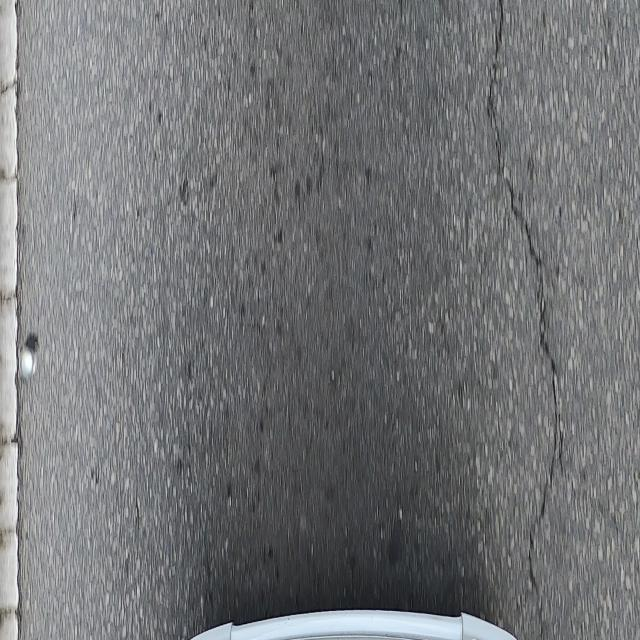Retak-Memanjang: (485, 19, 564, 637)
